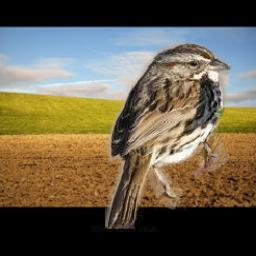Sparrow: (105, 39, 232, 229)
